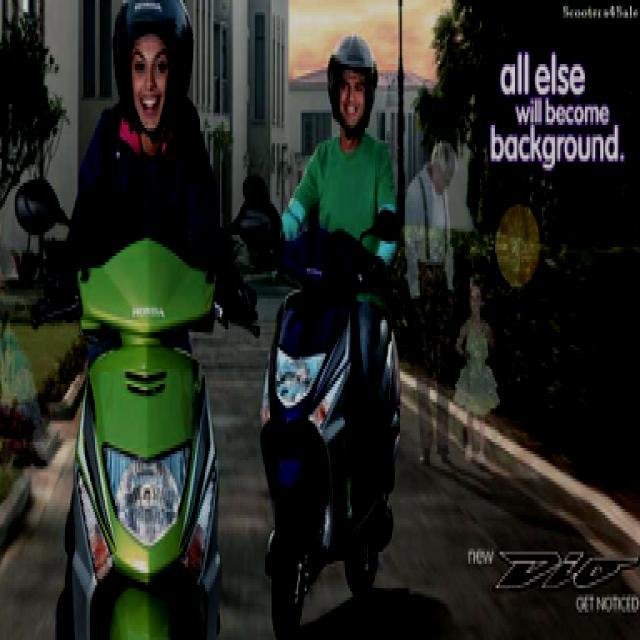Helmet: (102, 0, 198, 128), (325, 24, 382, 134)
